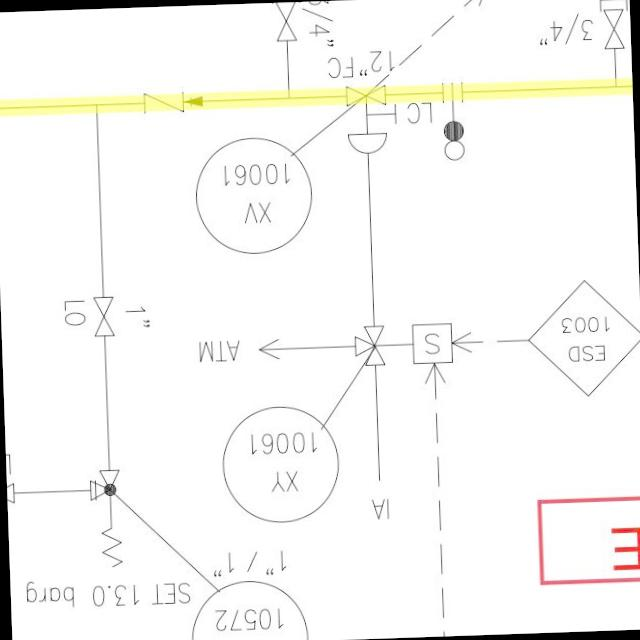3W: (349, 313, 388, 372)
EC: (594, 0, 632, 83)
FC: (339, 81, 390, 157)
GV: (268, 0, 304, 46), (88, 287, 118, 341), (600, 2, 625, 52)
RPV: (81, 454, 124, 576)
SV: (364, 316, 457, 368)
